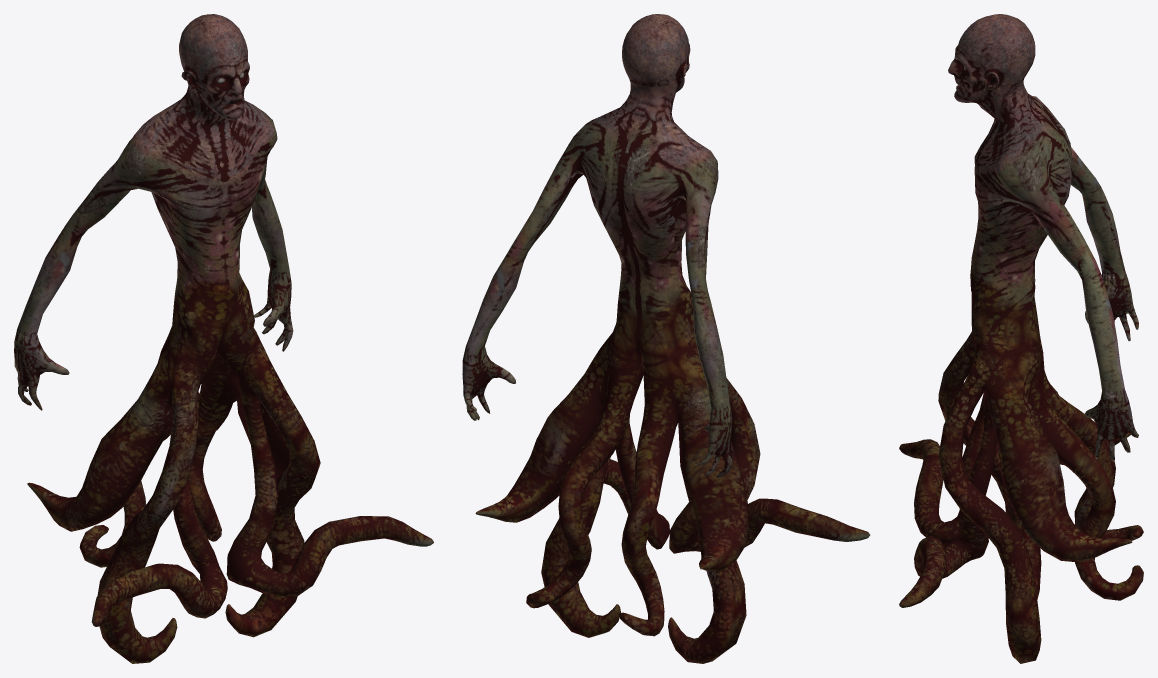
Rendered from Chobi.glb.
3 renders of one model, left to right at view 1: azimuth 30°, elevation 25°; view 2: azimuth 150°, elevation 25°; view 3: azimuth 270°, elevation 25°, orthographic. The views are drawn at different scales.
Parts seen in each view (by area): view 1: Chobi_low; view 2: Chobi_low; view 3: Chobi_low.
Boxes of the visible parts, x1,y1,x2,y2 form: Chobi_low: (14, 14, 433, 663); Chobi_low: (462, 14, 870, 663); Chobi_low: (899, 14, 1143, 663).
Size of the model in its own units: 1.79 by 3.22 by 1.16.
1 material, 1 textured.
